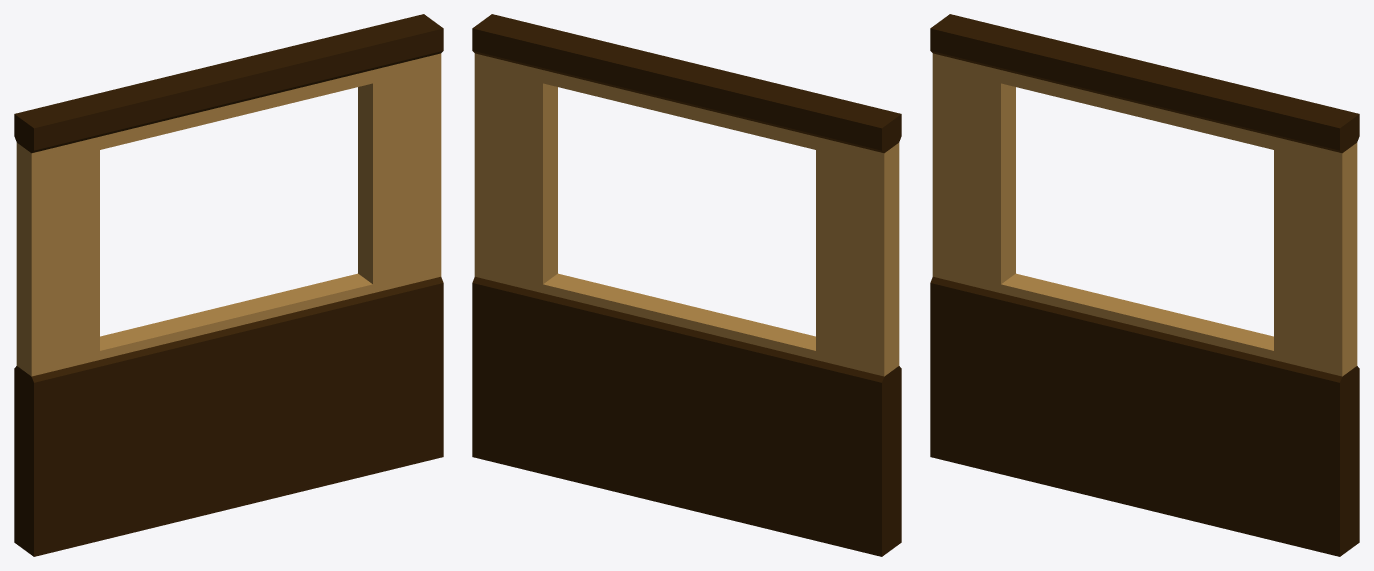
File: Classic_WallWindowFrame_02_snaps001.fbx
3 renders of one model, left to right at view 1: azimuth 30°, elevation 25°; view 2: azimuth 150°, elevation 25°; view 3: azimuth 330°, elevation 25°, orthographic.
Parts seen in each view (by area): view 1: Classic_WallWindowFrame_02_snaps001; view 2: Classic_WallWindowFrame_02_snaps001; view 3: Classic_WallWindowFrame_02_snaps001.
Part boxes in pixels (x1=…): Classic_WallWindowFrame_02_snaps001: x1=14, y1=14, x2=443, y2=556; Classic_WallWindowFrame_02_snaps001: x1=472, y1=14, x2=901, y2=556; Classic_WallWindowFrame_02_snaps001: x1=930, y1=14, x2=1359, y2=556.
Bounding box in the file's own units: 300 × 300 × 25.
